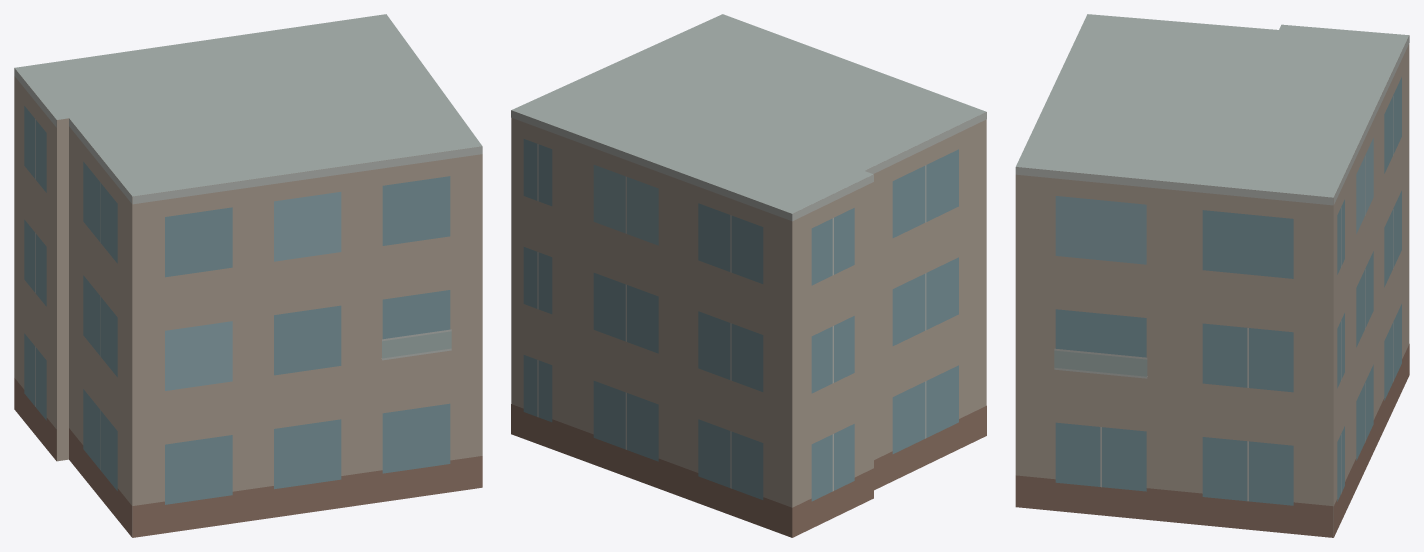
The model's file is survey-upis-32687987.glb.
3 views of the same model, side by side, from view 1: azimuth 30°, elevation 25°; view 2: azimuth 150°, elevation 25°; view 3: azimuth 270°, elevation 25° (orthographic). The views are drawn at different scales.
Parts seen in each view (by area): view 1: survey-upis-32687987.tmp; view 2: survey-upis-32687987.tmp; view 3: survey-upis-32687987.tmp.
Boxes of the visible parts, box(x1,y1,x2,y2) form: survey-upis-32687987.tmp: box(14, 14, 482, 537); survey-upis-32687987.tmp: box(511, 14, 986, 537); survey-upis-32687987.tmp: box(1015, 14, 1409, 537).
Size of the model in its own units: 12.28 by 10.6 by 11.13.
